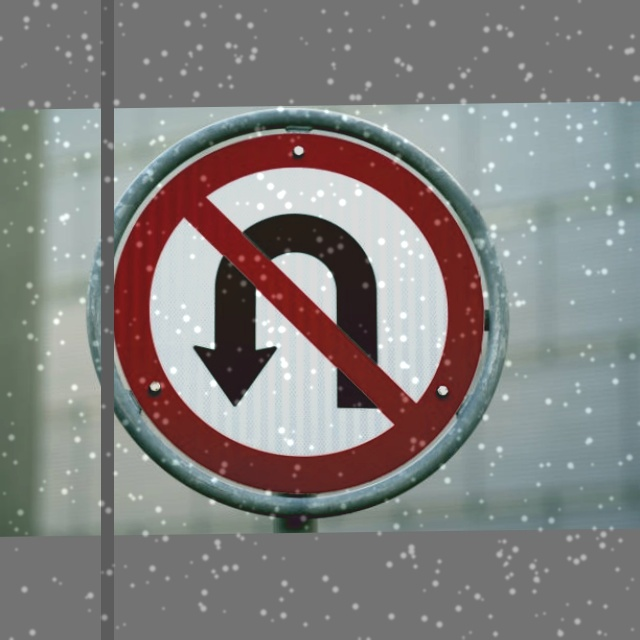U_Turn_Prohibited: (86, 102, 495, 514)
